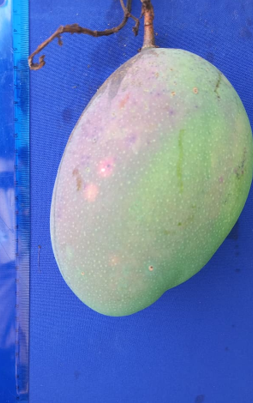Mango-sano: (50, 0, 252, 316)
